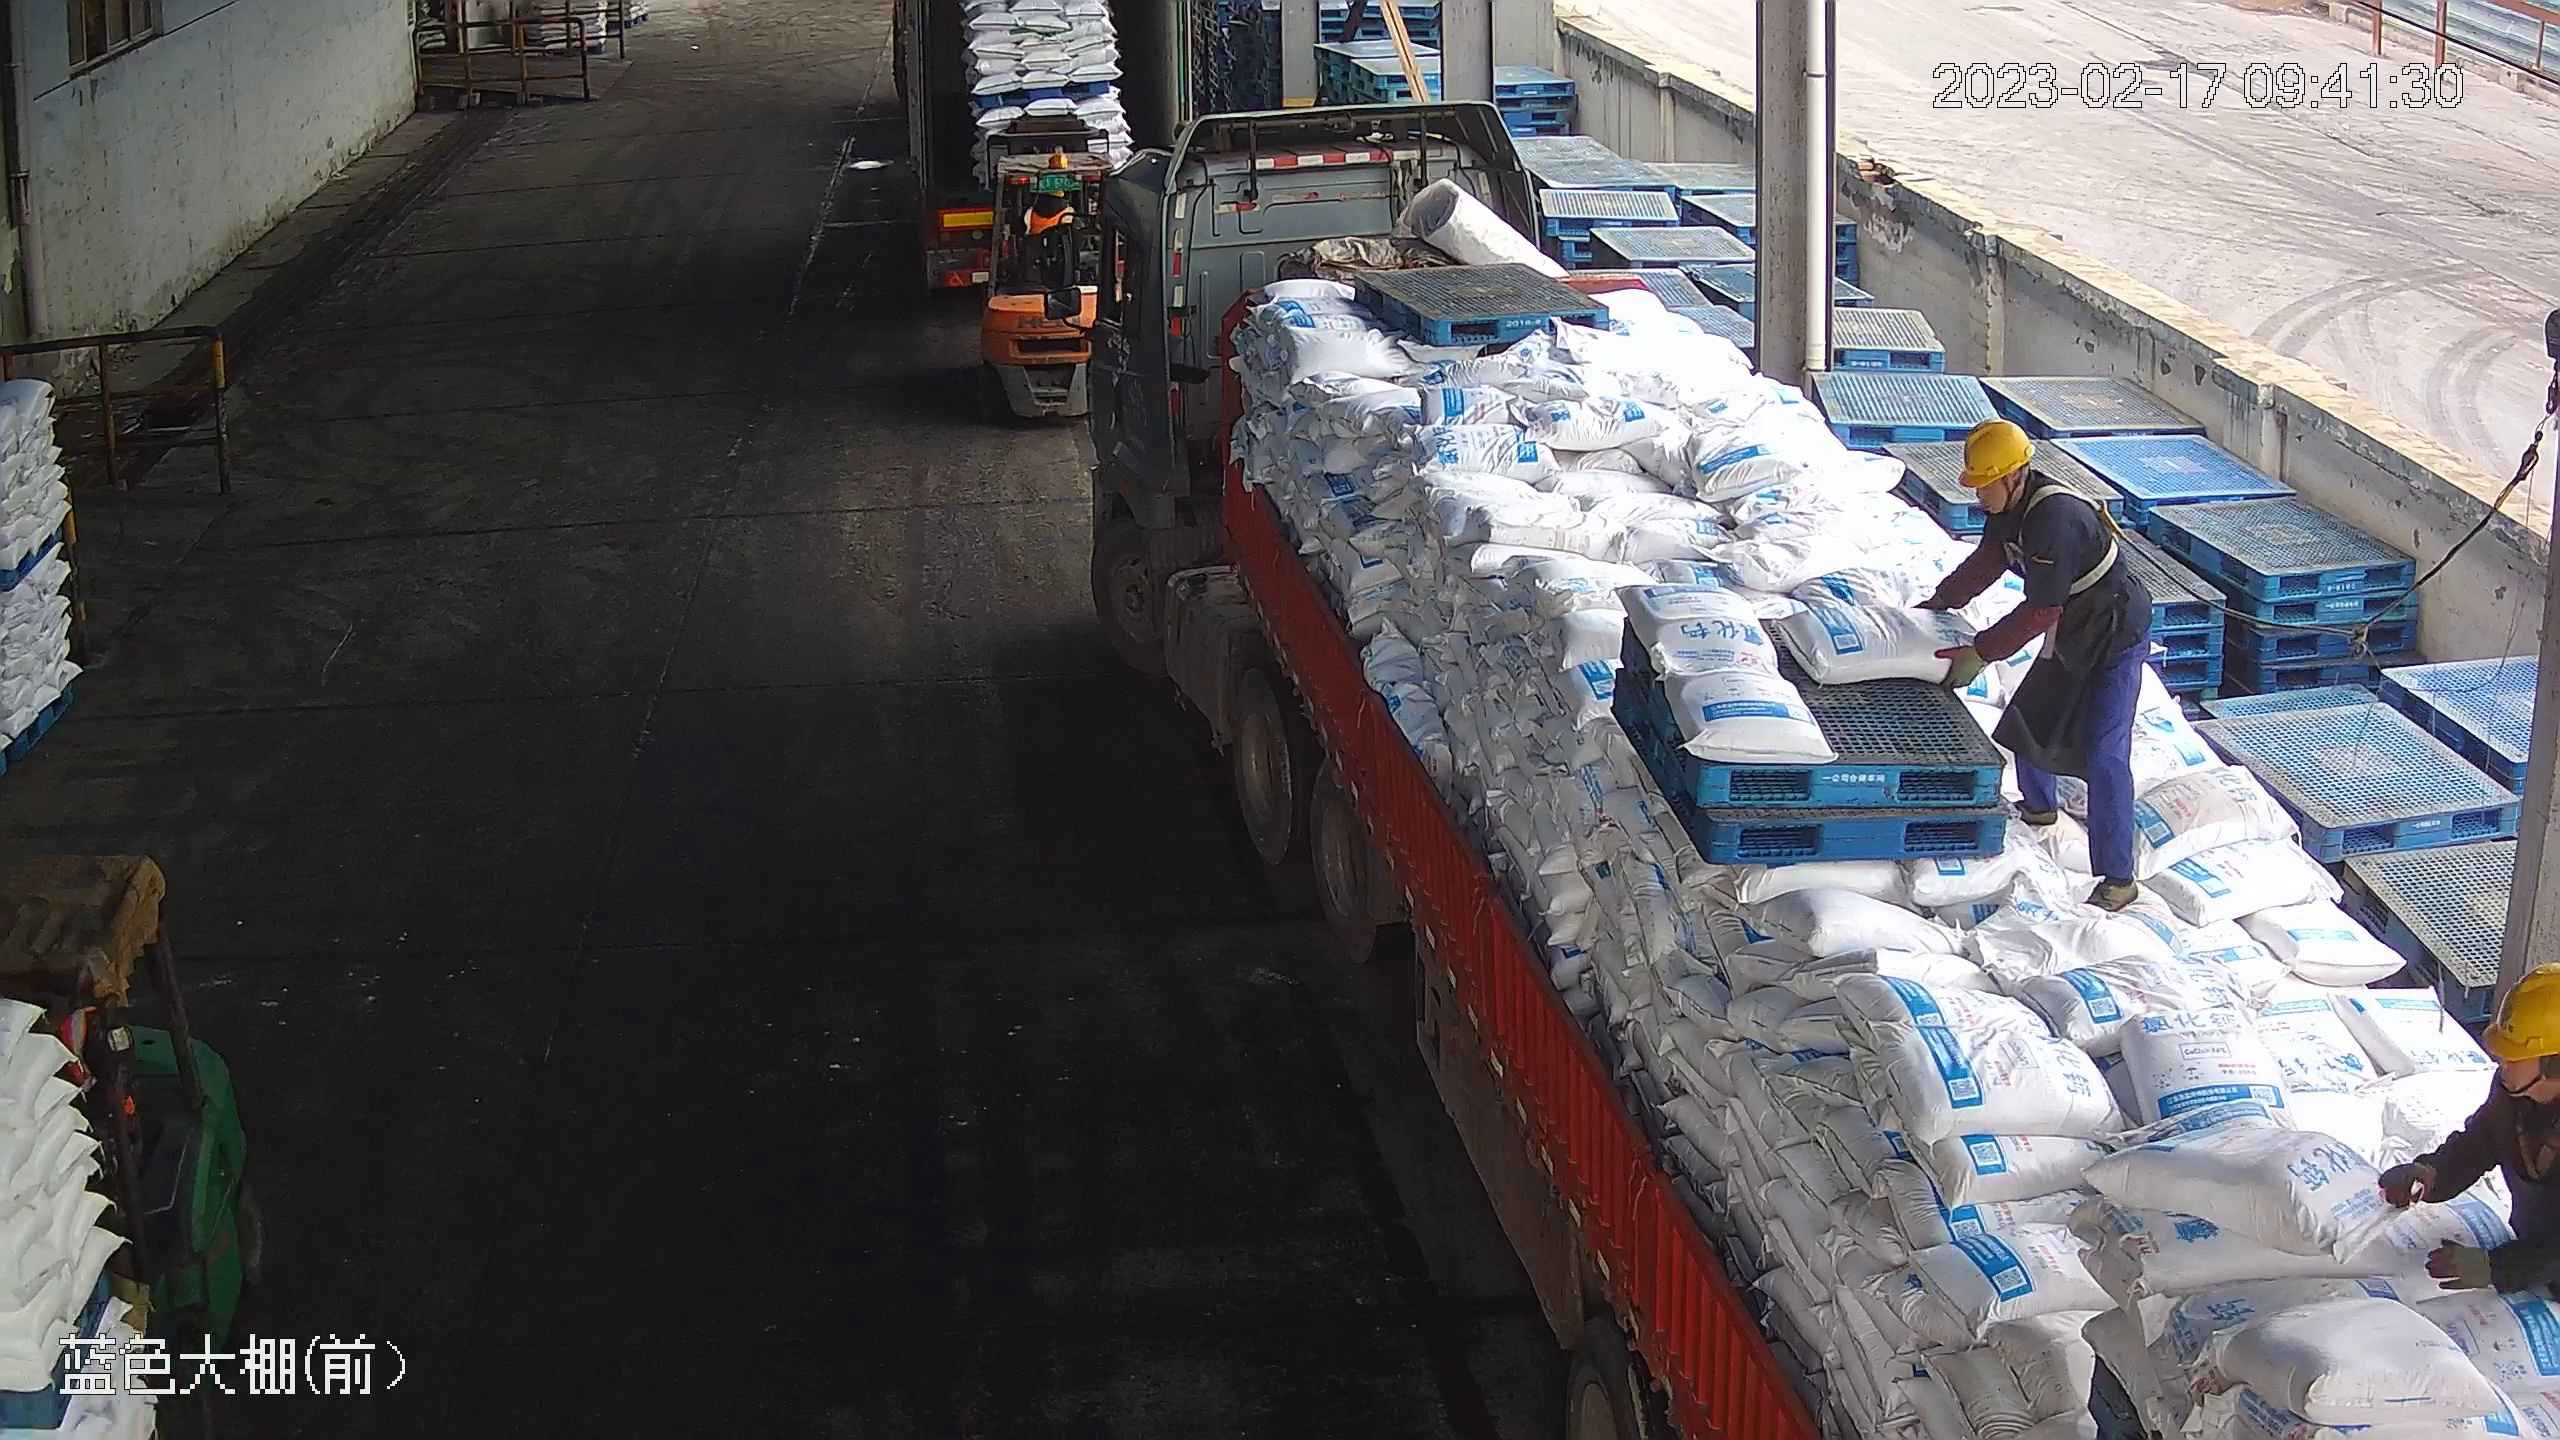belt: (2008, 474, 2132, 595), (2502, 1064, 2560, 1192)
head: (1954, 417, 2099, 547), (2466, 960, 2559, 1152)
helmet: (2478, 961, 2560, 1061), (1955, 417, 2038, 486)
people: (1915, 417, 2157, 912), (2379, 958, 2560, 1400)
truck: (1040, 99, 2555, 1439), (890, 3, 1184, 298)
